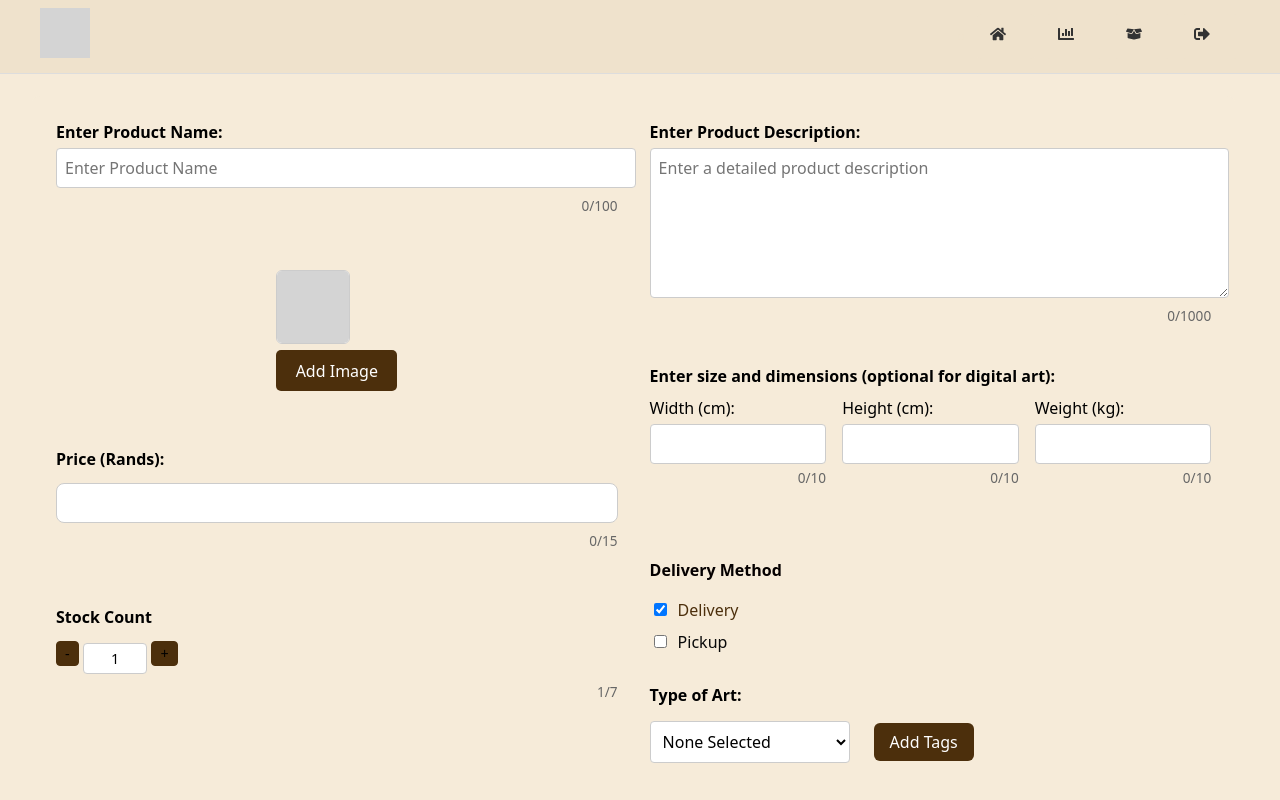
Test: AddProductPage Functional Tests › decrement button decreases stock count
The image size is (1280, 800).
Click the button "-" at (67, 654), box [56,641,79,666]
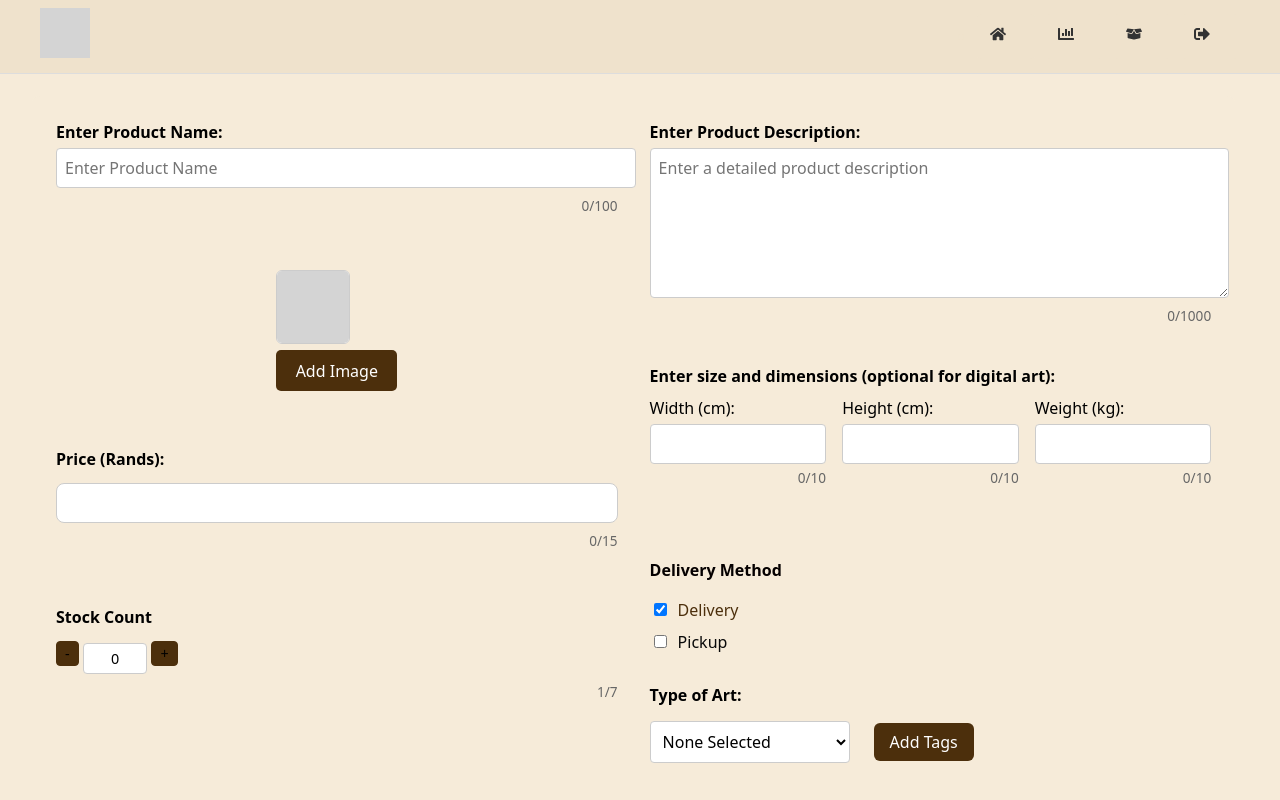
Expected: the field labelled "Stock Count" holds "0", [83,643,147,674]
